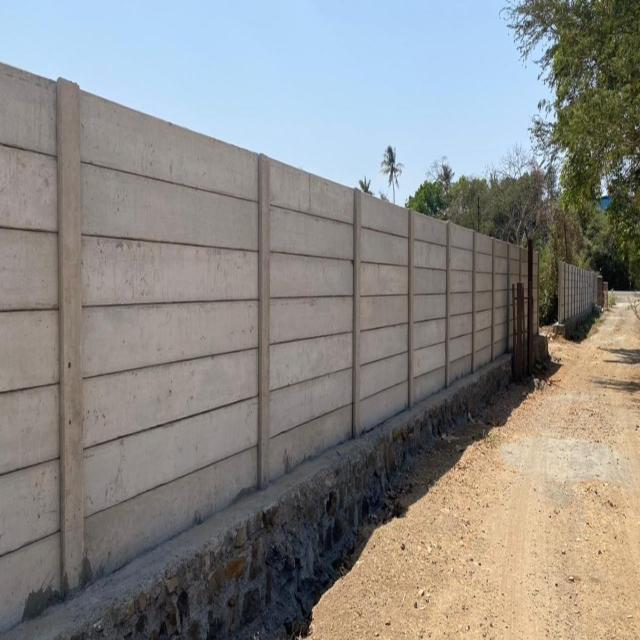cement: (0, 356, 508, 639)
white-sand: (310, 299, 640, 639)
